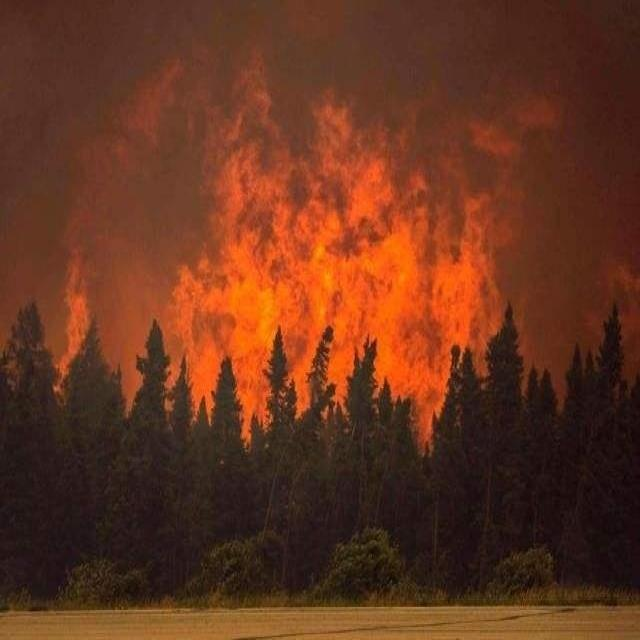Fire: (161, 52, 505, 456), (51, 264, 93, 396)
